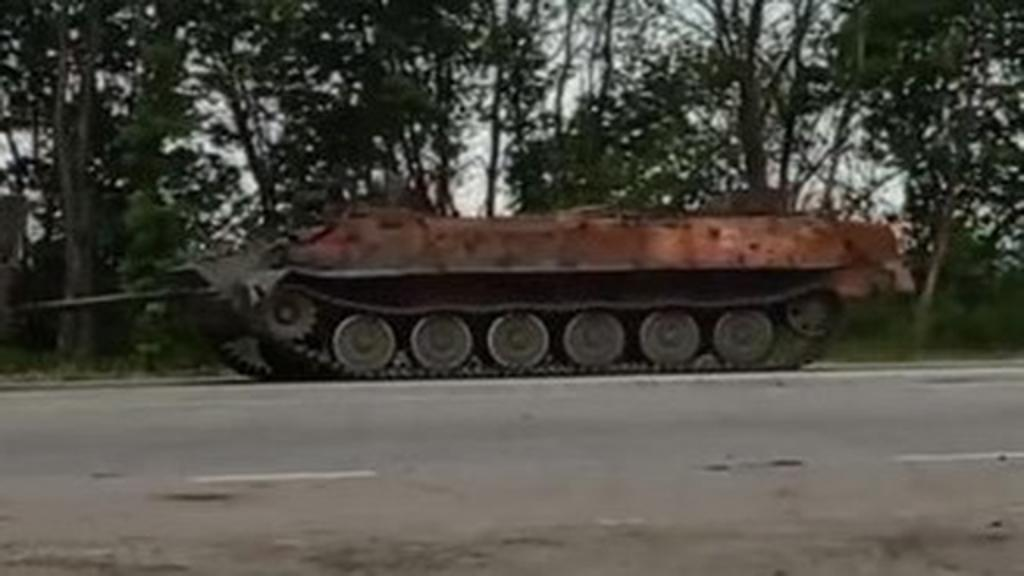APC-IFV: (166, 162, 904, 412)
